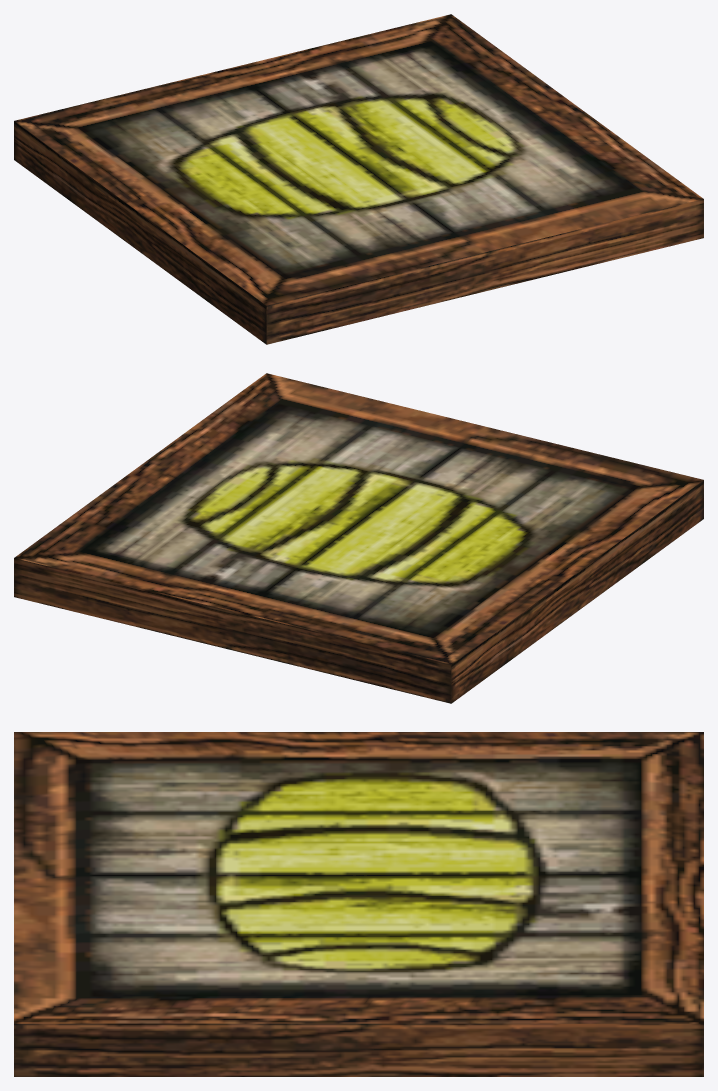
The model's file is INST_LT_PPLATEHVY.fbx.
The picture shows the model from 3 angles, top to bottom: view 1: azimuth 30°, elevation 25°; view 2: azimuth 150°, elevation 25°; view 3: azimuth 270°, elevation 25°; orthographic projection. The views are drawn at different scales.
Parts seen in each view (by area): view 1: INST_LT_PPLATEHVY; view 2: INST_LT_PPLATEHVY; view 3: INST_LT_PPLATEHVY.
Boxes of the visible parts, x1=… form: INST_LT_PPLATEHVY: x1=14, y1=14, x2=703, y2=344; INST_LT_PPLATEHVY: x1=14, y1=373, x2=703, y2=703; INST_LT_PPLATEHVY: x1=14, y1=732, x2=703, y2=1076.
Size of the model in its own units: 20000 by 1705 by 20000.
2 materials, 2 textured.
